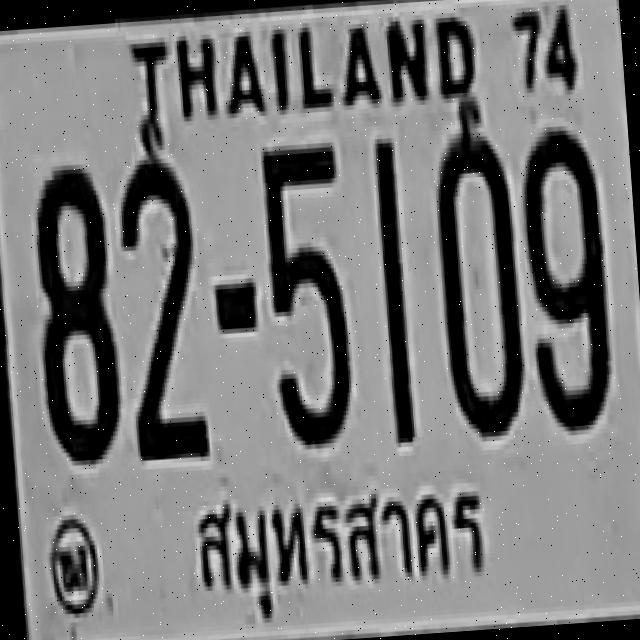0: (428, 121, 526, 439)
1: (372, 138, 414, 443)
2: (113, 148, 206, 456)
5: (258, 140, 354, 448)
8: (27, 162, 121, 462)
9: (517, 124, 615, 432)
SamutSakhon: (185, 462, 511, 633)
